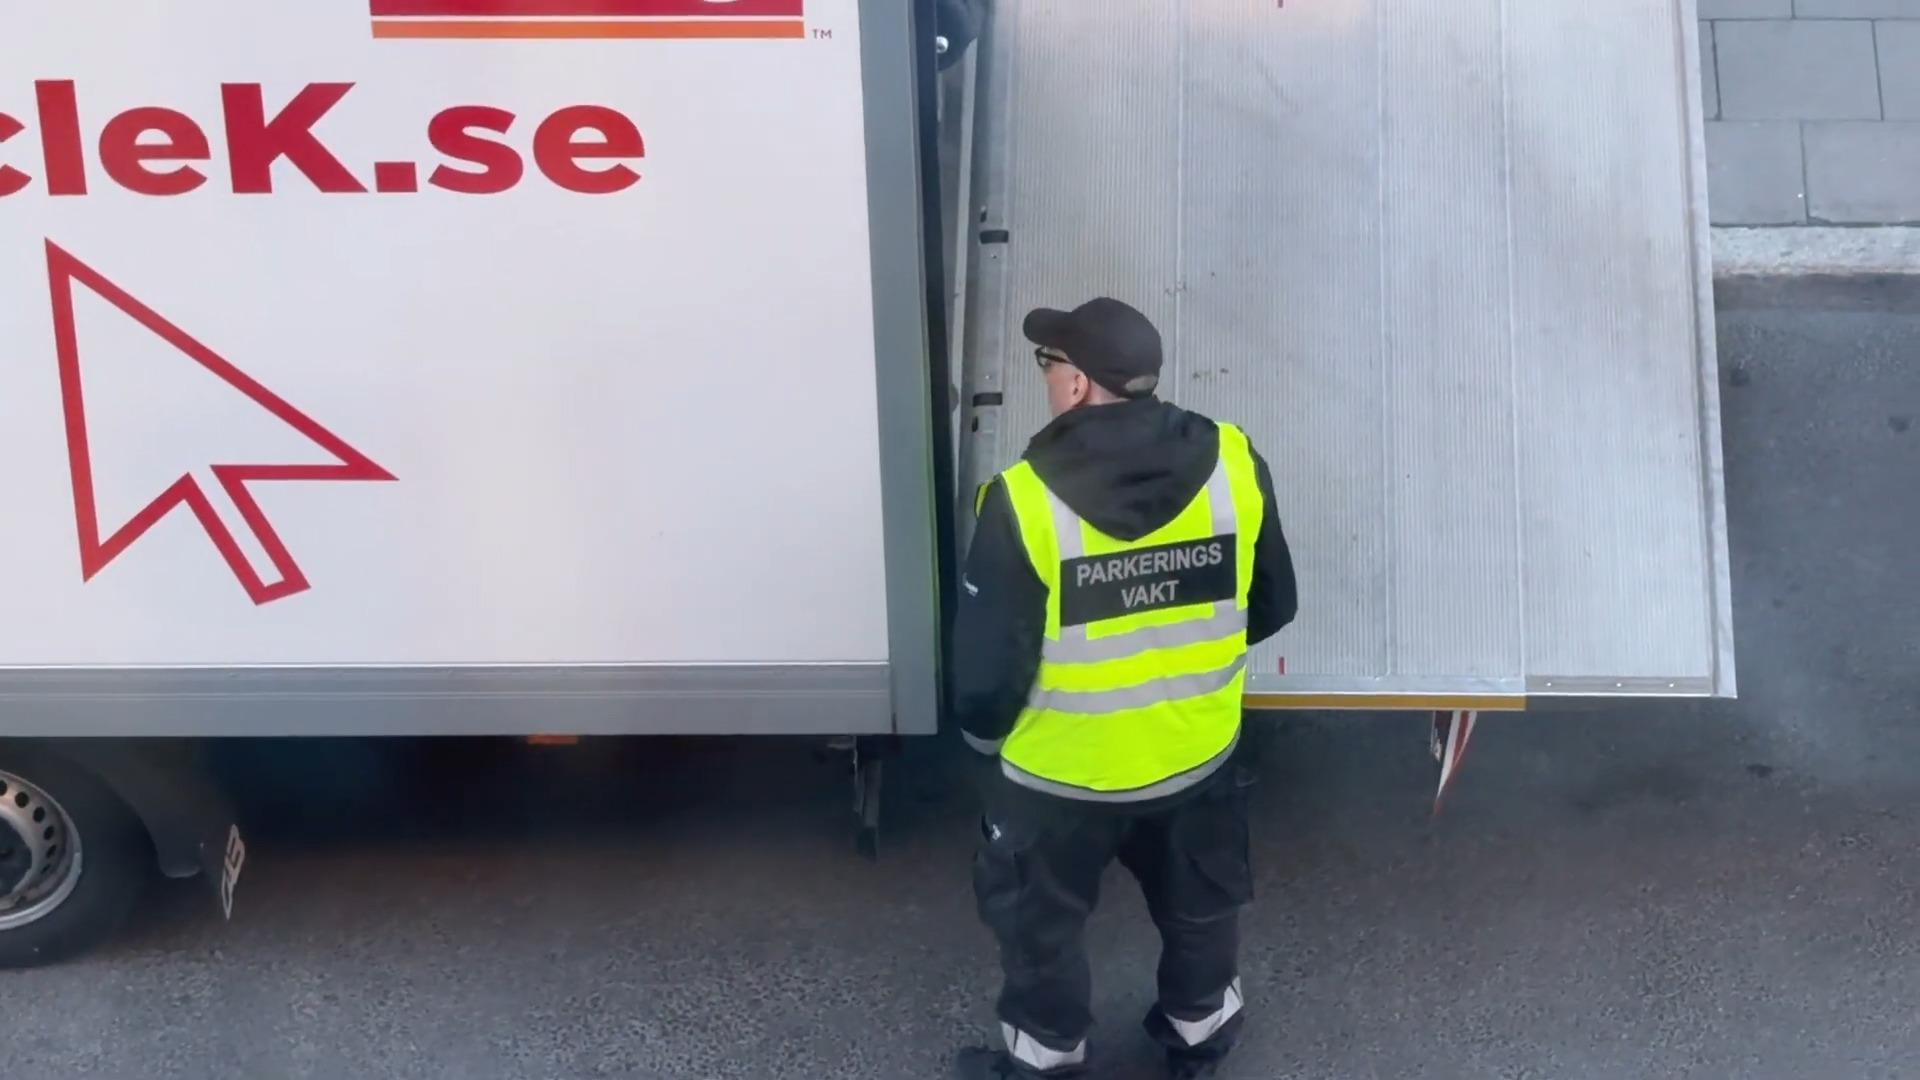parking-attendant: (953, 299, 1296, 1079)
